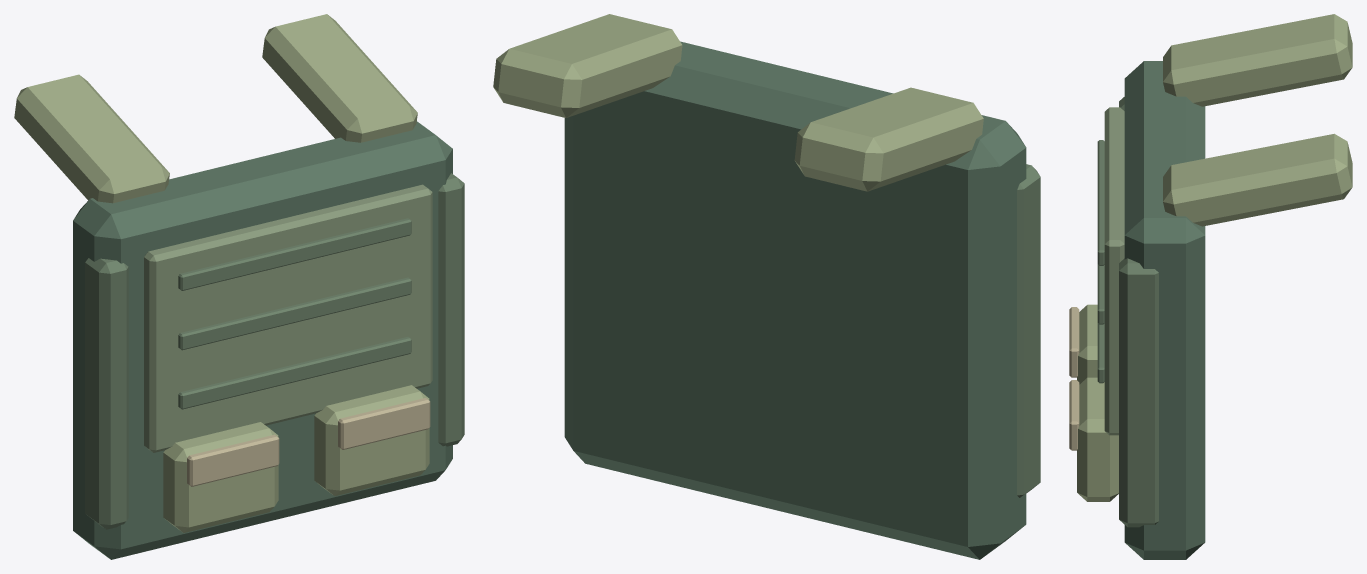
The model's file is MilitaryBallisticVest.glb.
3 views of the same model, side by side, from view 1: azimuth 30°, elevation 25°; view 2: azimuth 150°, elevation 25°; view 3: azimuth 270°, elevation 25° (orthographic). The views are drawn at different scales.
Visible parts, largest first — view 1: StaticVisual; view 2: StaticVisual; view 3: StaticVisual.
Boxes of the visible parts, <box> form: StaticVisual: <box>14,14,464,559</box>; StaticVisual: <box>493,14,1040,559</box>; StaticVisual: <box>1069,14,1352,559</box>.
Bounding box in the file's own units: 0.775 × 0.8087 × 0.5248.
